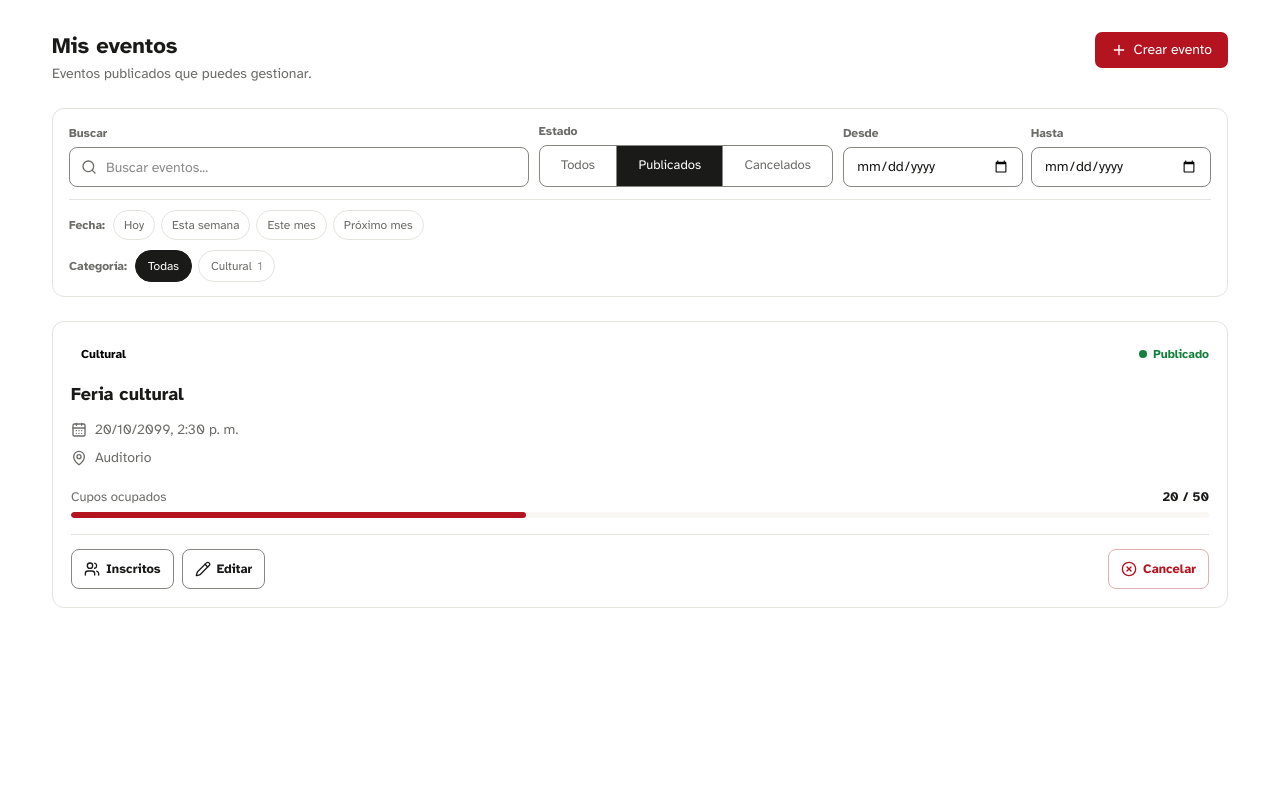
GestionEventos (HU-07) › aplica filtros a la consulta sin cambiar las tarjetas de gestión
Expected: the heading "Feria cultural" is shown, [71,383,184,405]
Click the button "Cultural 1" at (237,266), box [198,250,275,282]
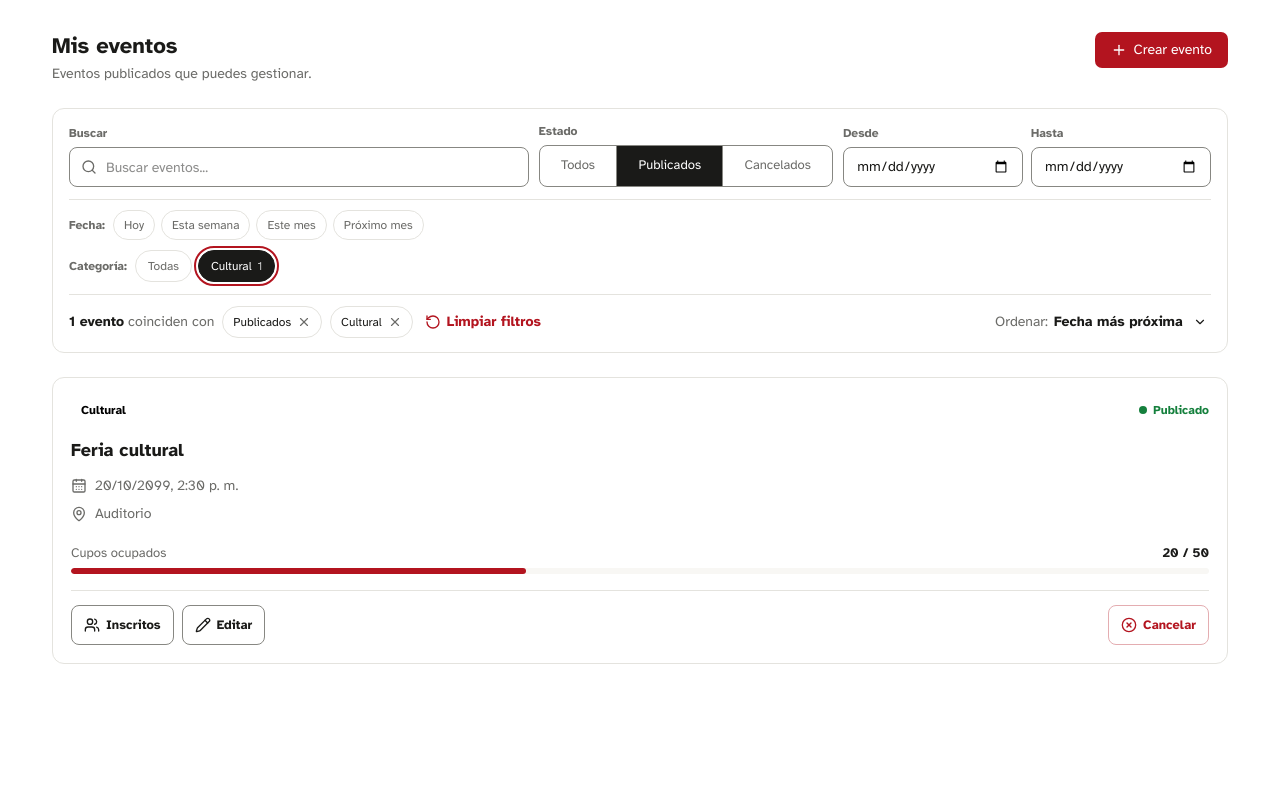
Expected: the link with aria-label "Editar evento Feria cultural" is shown, [182,605,265,645]
Expected: the button "Limpiar filtros" is shown
Click the button "Limpiar filtros" at (483,322), box [421,306,545,338]
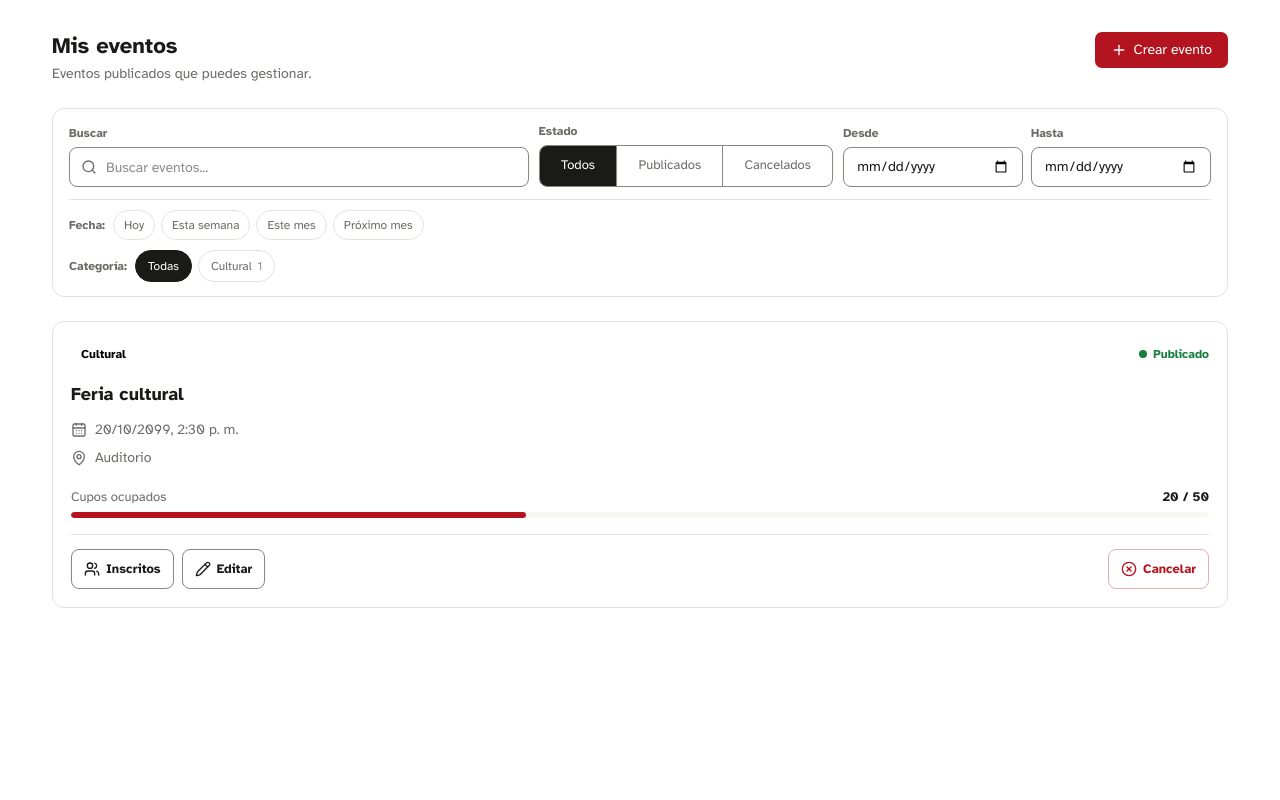
Expected: the button "Limpiar filtros" is gone
